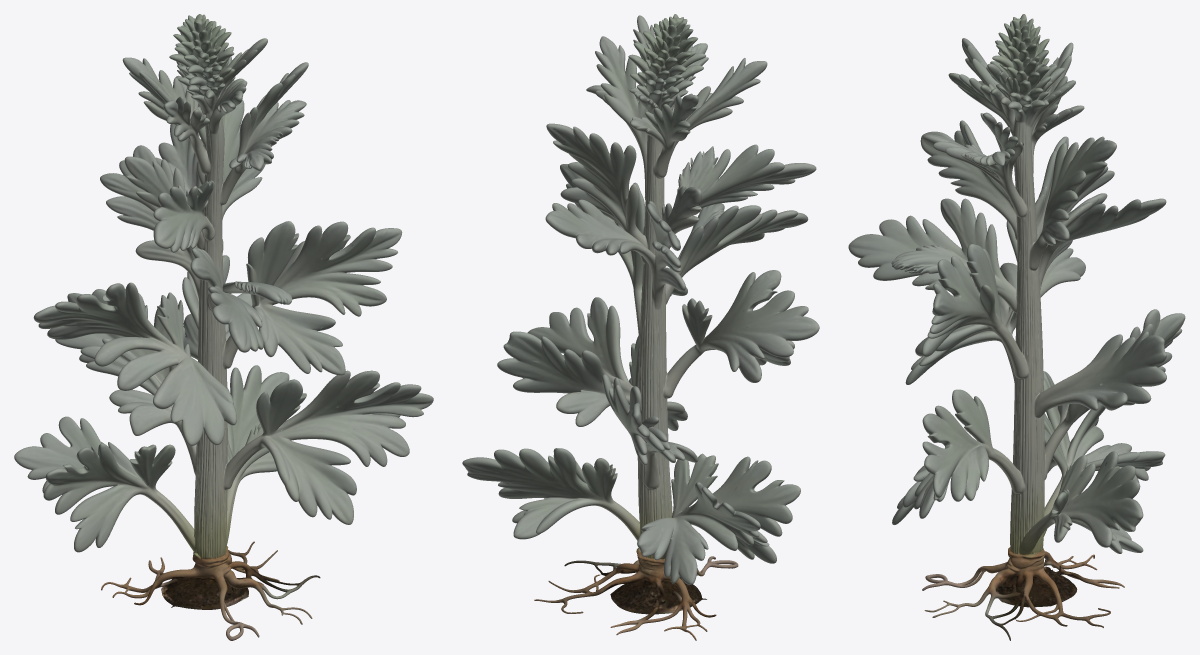
File: artemisia-fast.glb
The picture shows the model from 3 angles, left to right: view 1: azimuth 30°, elevation 25°; view 2: azimuth 150°, elevation 25°; view 3: azimuth 270°, elevation 25°; orthographic projection. The views are drawn at different scales.
Visible parts, largest first — view 1: node_0; view 2: node_0; view 3: node_0.
Boxes of the visible parts, x1=… form: node_0: x1=14, y1=14, x2=433, y2=640; node_0: x1=462, y1=14, x2=819, y2=640; node_0: x1=848, y1=14, x2=1185, y2=640.
Bounding box in the file's own units: 0.695 × 1.13 × 0.6035.
1 material, 1 textured.
